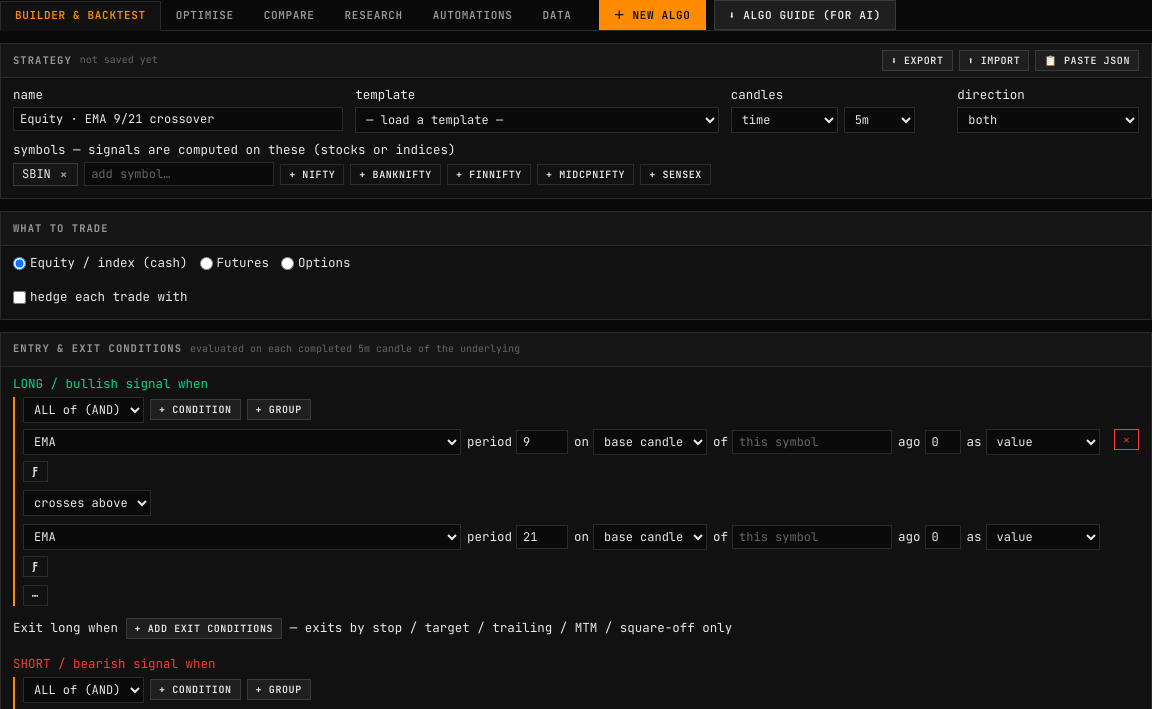
Test: Algo Lab research loop › runs a research check on the rules as they are and shows the card
The width and height of the screenshot is (1152, 709).
Expected: the field showing "EMA 9/21" is shown, [13,107,343,131]
Step 1. Click the button "Optimise" → (205, 15), box [161,0,249,30]
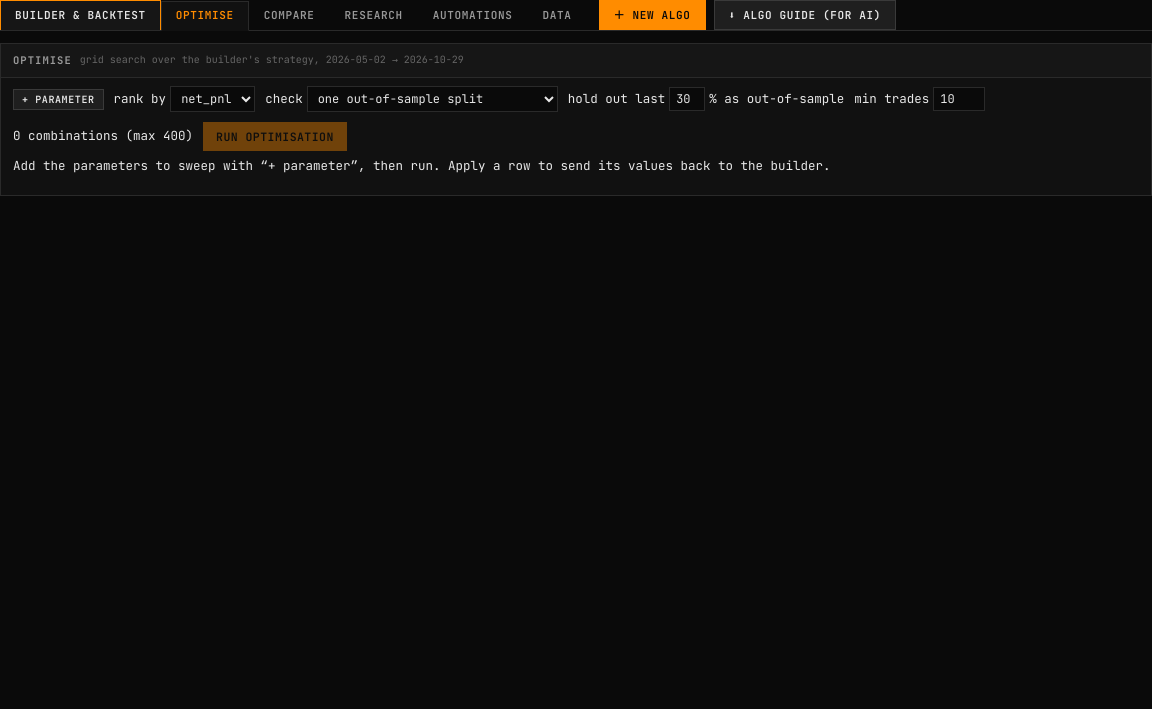
Now the button "Run optimisation" is disabled, box [203,122,347,151]
Step 2. Select "research check → strategy card" in the dropdown showing "one out-of-sample split" → (432, 99), box [307,86,558,112]
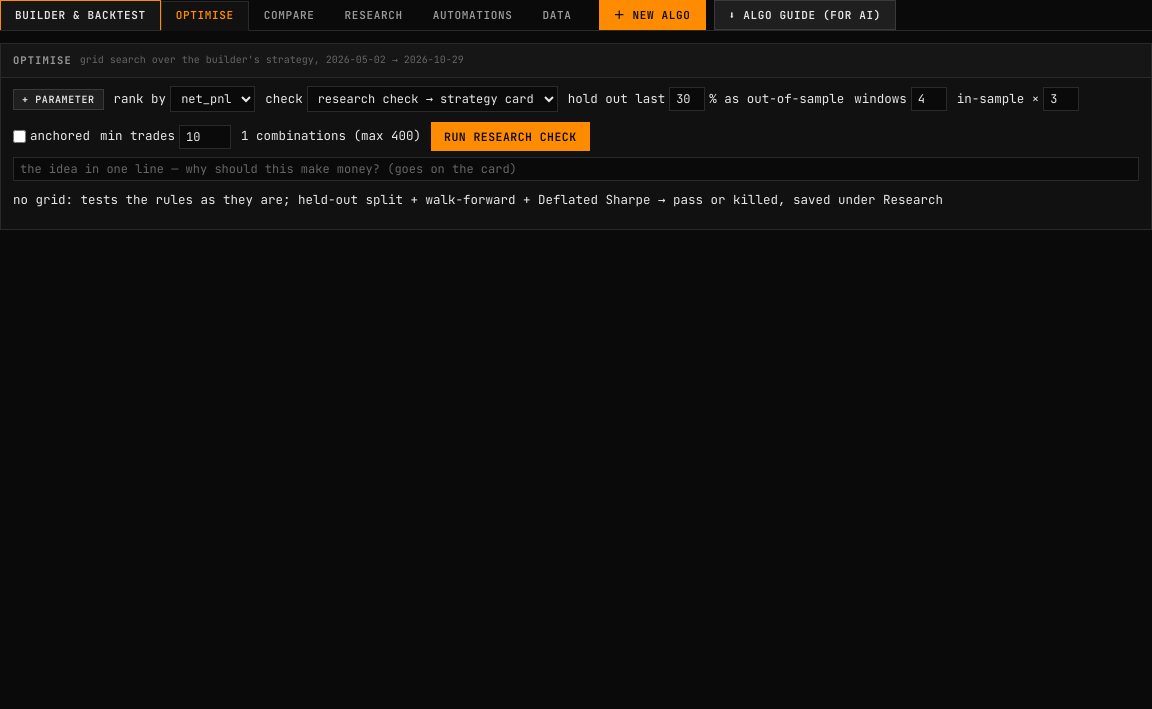
Step 3. Replace the text in the field with test id "research-idea" with "trend days follow an EMA cross" → (576, 169), box [13,157,1139,181]
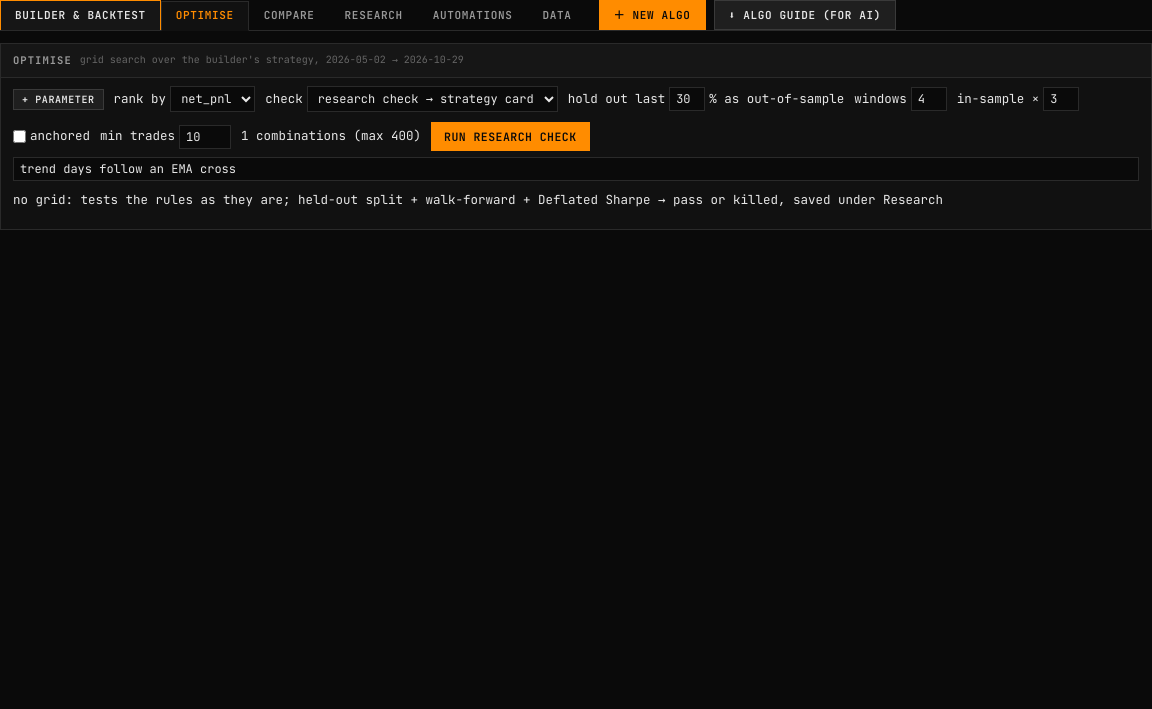
Now the button "Run research check" is enabled
Step 4. Click the button "Run research check" → (510, 136), box [431,122,590,151]
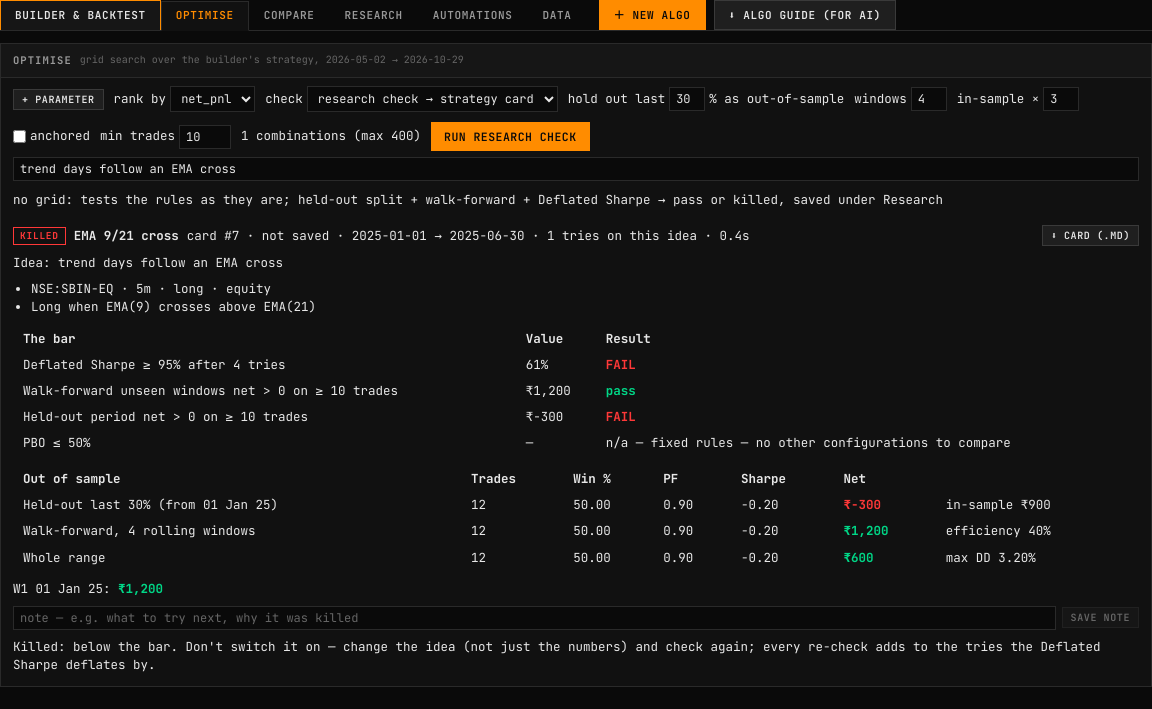
Now the text with test id "card-verdict" reads "KILLED", box [20,228,59,242]
Now the row with test id "check-dsr" shows "61%", box [526,356,548,373]
Now the row with test id "check-dsr" shows "FAIL", box [606,356,636,373]
